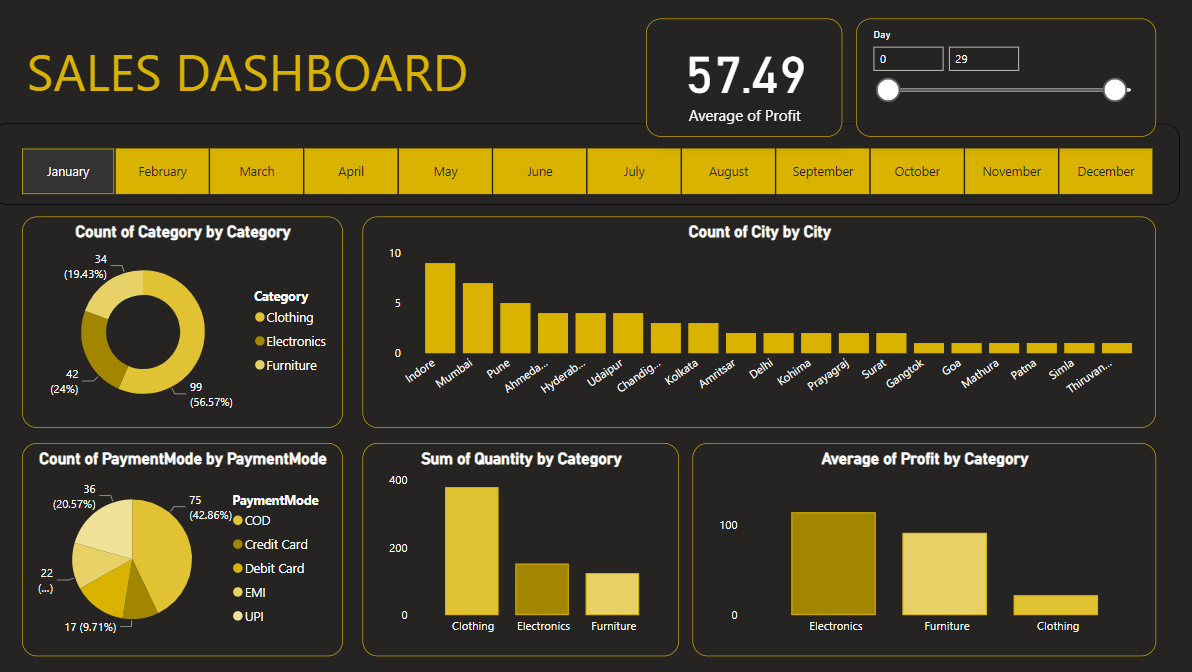

This screenshot's page, from the dashboard's own definition file:
{"tool":"powerbi","page":{"name":"Page 1","canvas":[1280,720],"ordinal":0},"visuals":[{"type":"slicer","fields":{"Values":["Orders.Order Date.Variation.Date Hierarchy.Month"]},"box":[0,131.9,1258.8,85.8],"z":0},{"type":"donutChart","fields":{"Y":["CountNonNull(Details.Category)"],"Series":["Details.Category"]},"box":[31.8,230.5,340.1,224.1],"z":1000},{"type":"pieChart","fields":{"Y":["CountNonNull(Details.PaymentMode)"],"Series":["Details.PaymentMode"]},"box":[31.8,470.5,340.1,225.7],"z":2000},{"type":"textbox","box":[31.8,35,513.4,97],"z":3000},{"type":"slicer","fields":{"Values":["Orders.Order Date.Variation.Date Hierarchy.Day"]},"box":[915.5,20.7,317.9,125.6],"z":4000},{"type":"card","fields":{"Values":["Avg(Details.Profit)"]},"box":[693,20.7,208.2,125.6],"z":5000},{"type":"columnChart","fields":{"Category":["Orders.City"],"Y":["CountNonNull(Orders.City)"]},"box":[392.6,230.5,840.8,224.1],"z":6000},{"type":"columnChart","fields":{"Category":["Details.Category"],"Y":["Sum(Details.Quantity)"]},"box":[392.6,470.5,335.4,225.7],"z":7000},{"type":"columnChart","fields":{"Category":["Details.Category"],"Y":["Avg(Details.Profit)"]},"box":[742.3,470.5,491.1,225.7],"z":8000}]}

Visuals, with their boxes in screenshot pixels (x1, y1, x2, y2), scaled from the page's 1280x720 canvas onto the 1192x672 screenshot:
slicer - Orders.Order Date.Variation.Date Hierarchy.Month: 0:123:1172:203
donutChart - CountNonNull(Details.Category) x Details.Category: 30:215:346:424
pieChart - CountNonNull(Details.PaymentMode) x Details.PaymentMode: 30:439:346:650
textbox: 30:33:508:123
slicer - Orders.Order Date.Variation.Date Hierarchy.Day: 853:19:1149:137
card - Avg(Details.Profit): 645:19:839:137
columnChart - Orders.City x CountNonNull(Orders.City): 366:215:1149:424
columnChart - Details.Category x Sum(Details.Quantity): 366:439:678:650
columnChart - Details.Category x Avg(Details.Profit): 691:439:1149:650
